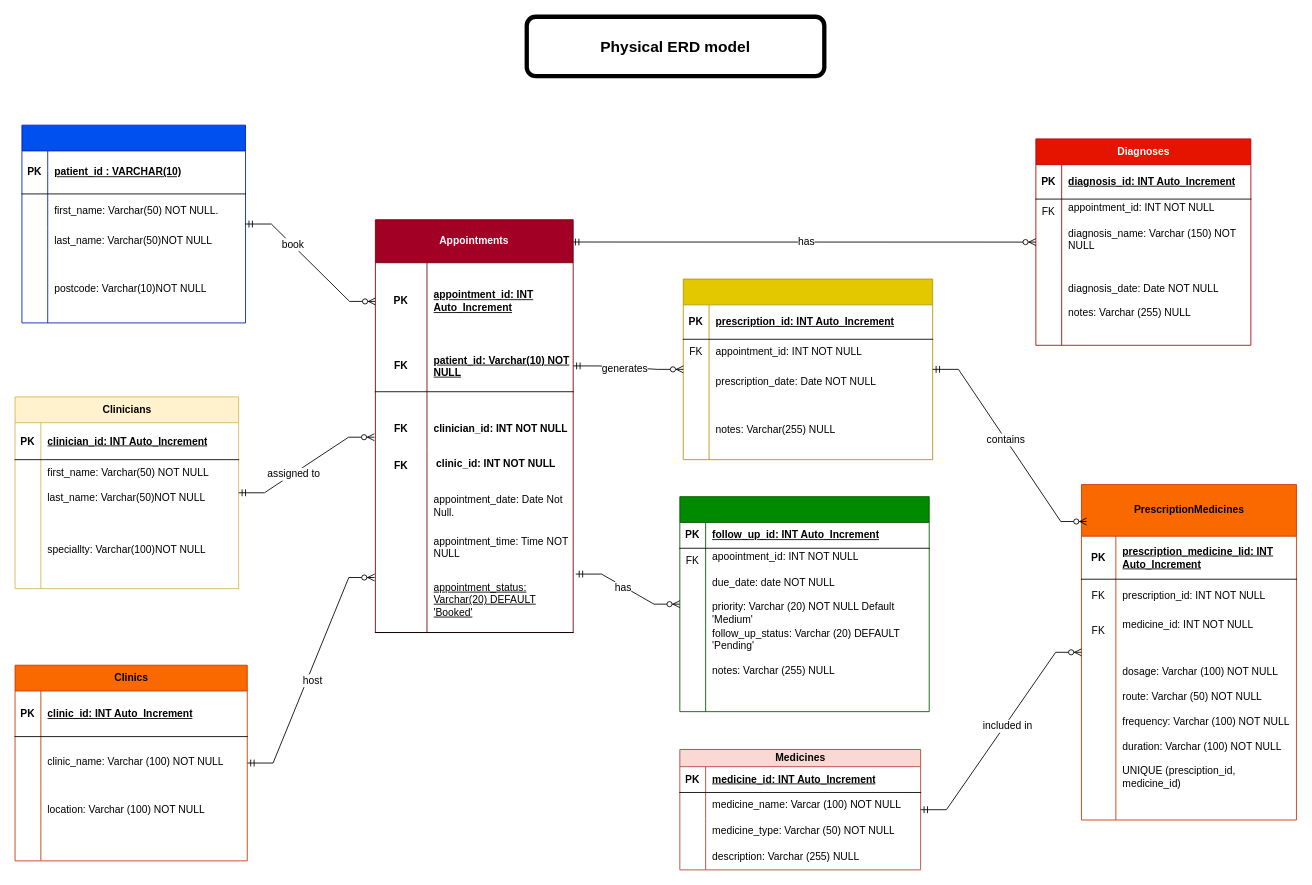
This 1312x885 diagram has some shape labels left out. The shapes that lost their labels are listed below. From the top down, each one's box as (x1, y1, x2, y2) in pixels, then its label:
(21, 124, 246, 323): Patients
(682, 278, 933, 460): Prescriptions
(679, 496, 929, 712): FollowUpPlans
